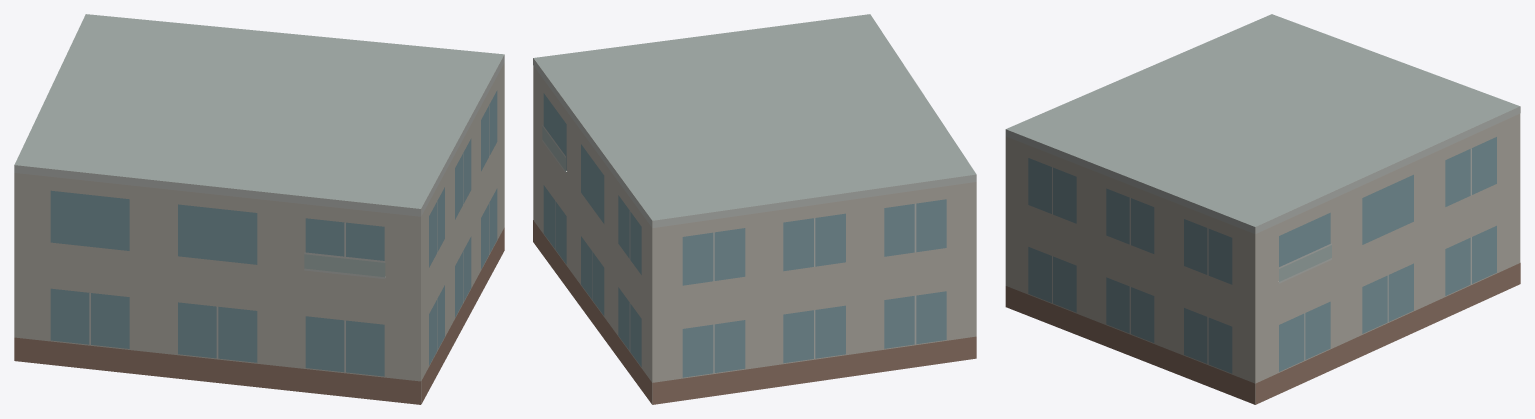
The model's file is survey-upis-32716652.glb.
The picture shows the model from 3 angles, left to right: view 1: azimuth 30°, elevation 25°; view 2: azimuth 150°, elevation 25°; view 3: azimuth 270°, elevation 25°; orthographic projection. The views are drawn at different scales.
Visible parts, largest first — view 1: survey-upis-32716652.tmp; view 2: survey-upis-32716652.tmp; view 3: survey-upis-32716652.tmp.
Part boxes in pixels (bbox=[...]): survey-upis-32716652.tmp: bbox=[14, 14, 504, 404]; survey-upis-32716652.tmp: bbox=[533, 14, 976, 404]; survey-upis-32716652.tmp: bbox=[1005, 14, 1520, 404].
Size of the model in its own units: 15.69 by 6.1 by 16.02.
